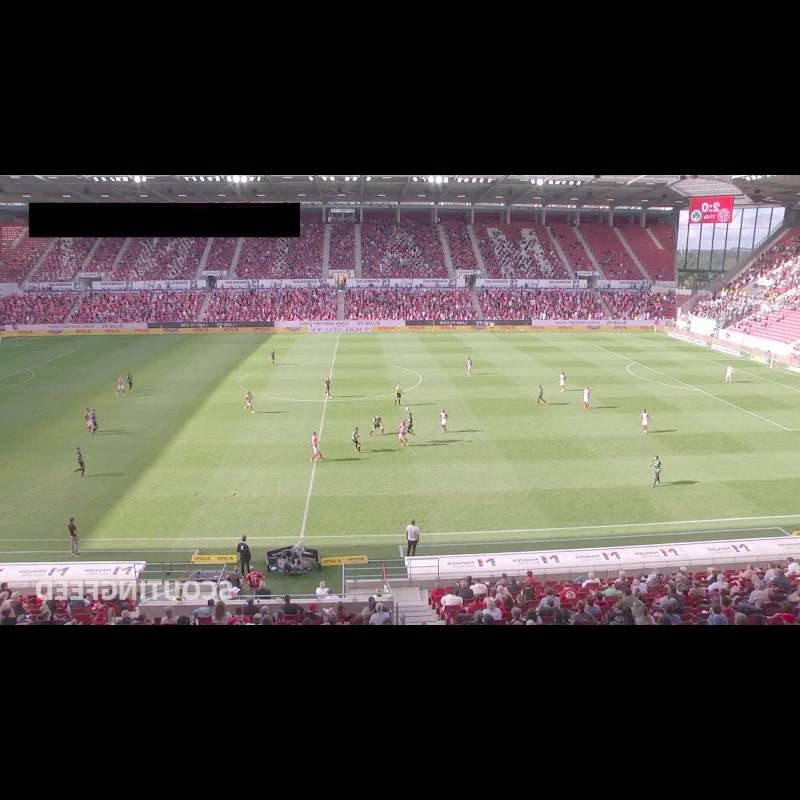cross_recipient_zone: (597, 346, 800, 430), (0, 351, 74, 378)
crossing_player_zone: (689, 430, 800, 499), (0, 335, 162, 352), (514, 332, 698, 346)
pitch: (0, 333, 800, 540)
